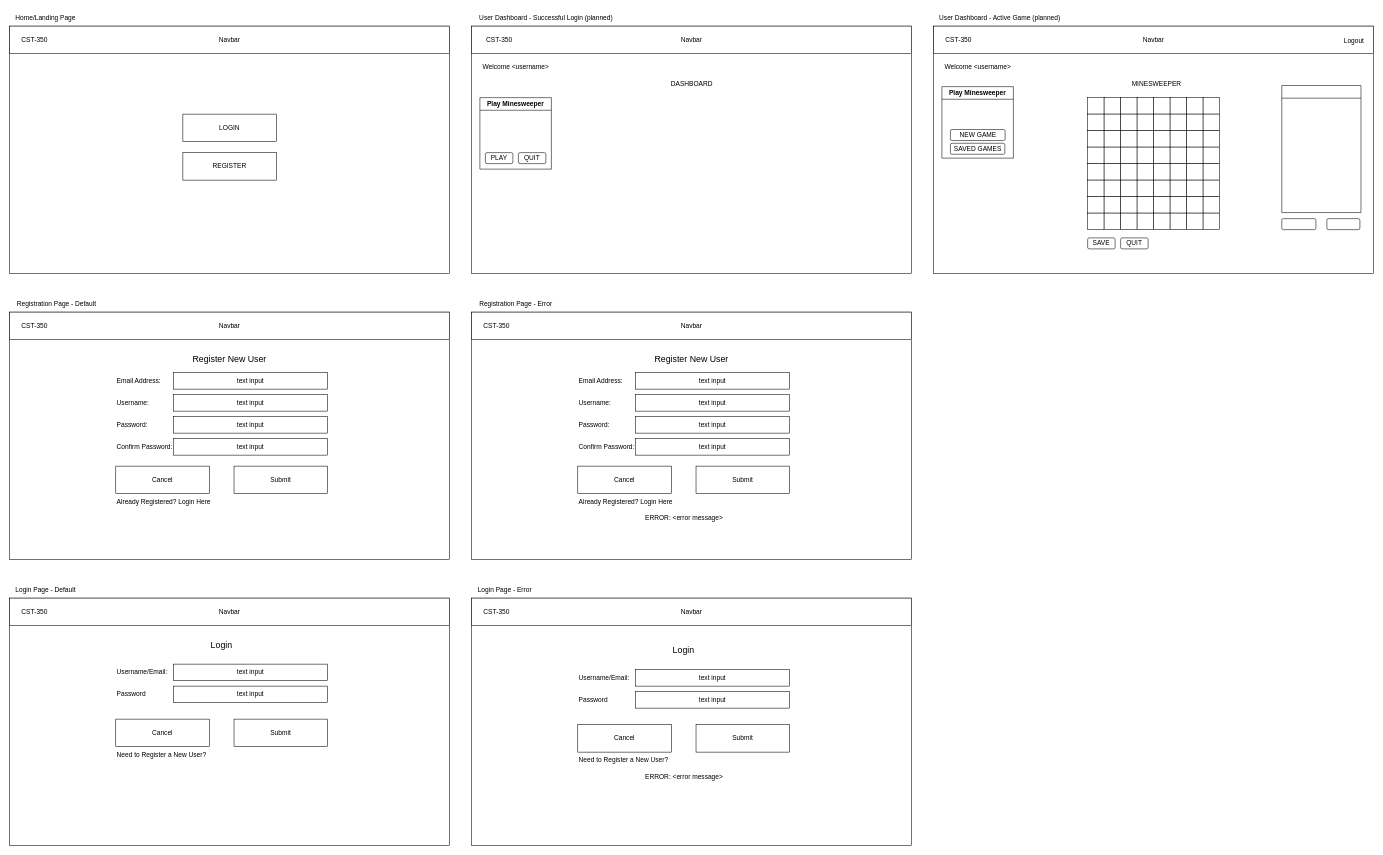
Some shapes in this 1383 by 855 pixel diagram are drawn without their labels. The box of each missing label's shape, as (x1, y1, x2, y2) in pixels:
DELETE: (1326, 218, 1360, 230)
LOAD: (1281, 218, 1316, 230)
Saved Games List: (1281, 85, 1361, 213)
